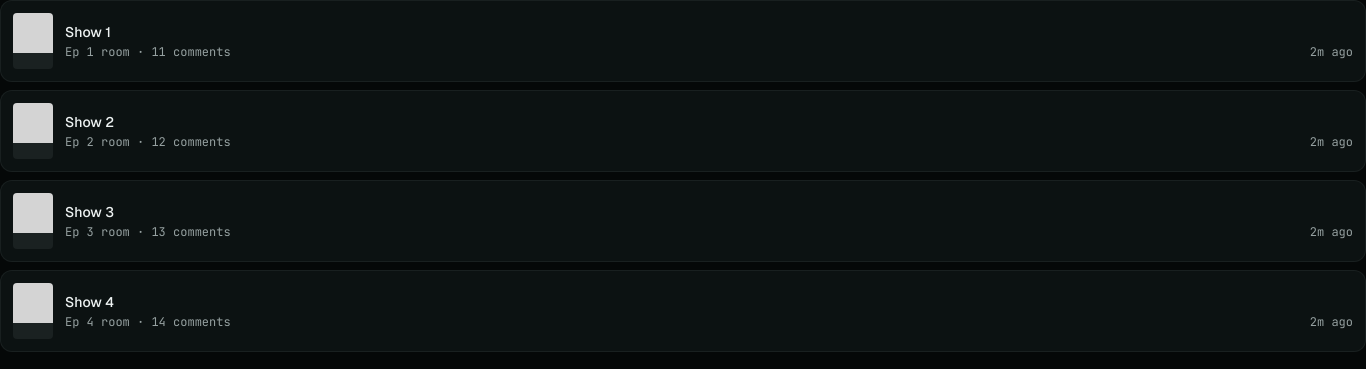
Test: LiveRooms › pauses while the pointer is over the list
Hover over the list.
mouse_move(683, 176)  # box [0,0,1365,352]
Check: the text "Show 1" is shown, box [65,23,111,41]
Move the pointer off the list
Wait 5000 ms
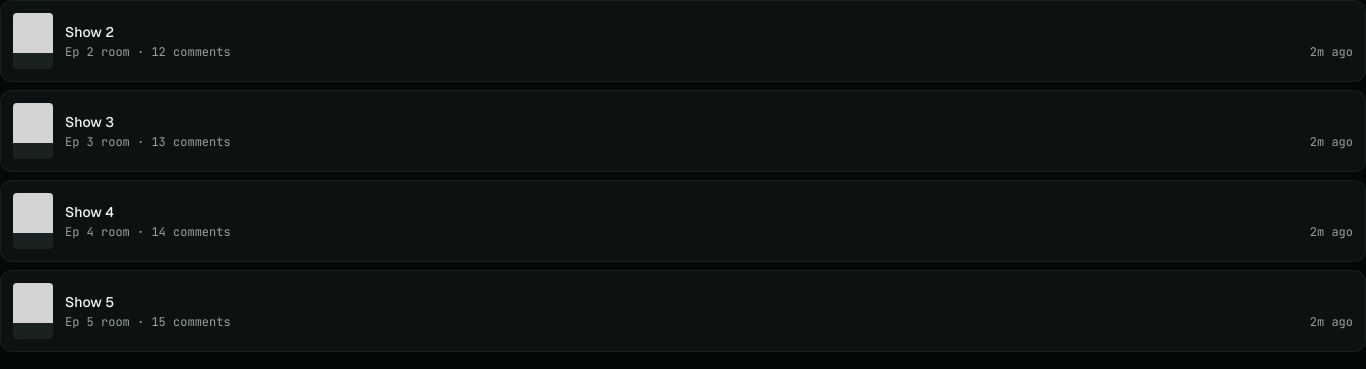
Check: the link "Show 1" is gone
